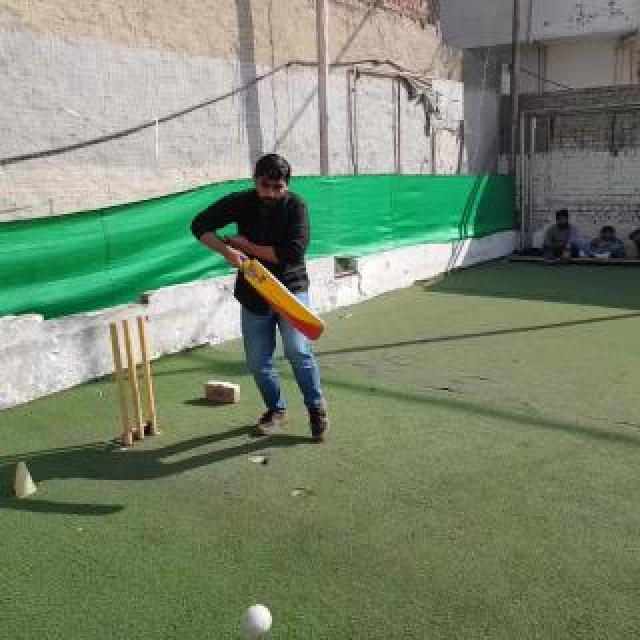ball: (241, 604, 273, 636)
bat: (242, 261, 326, 341)
